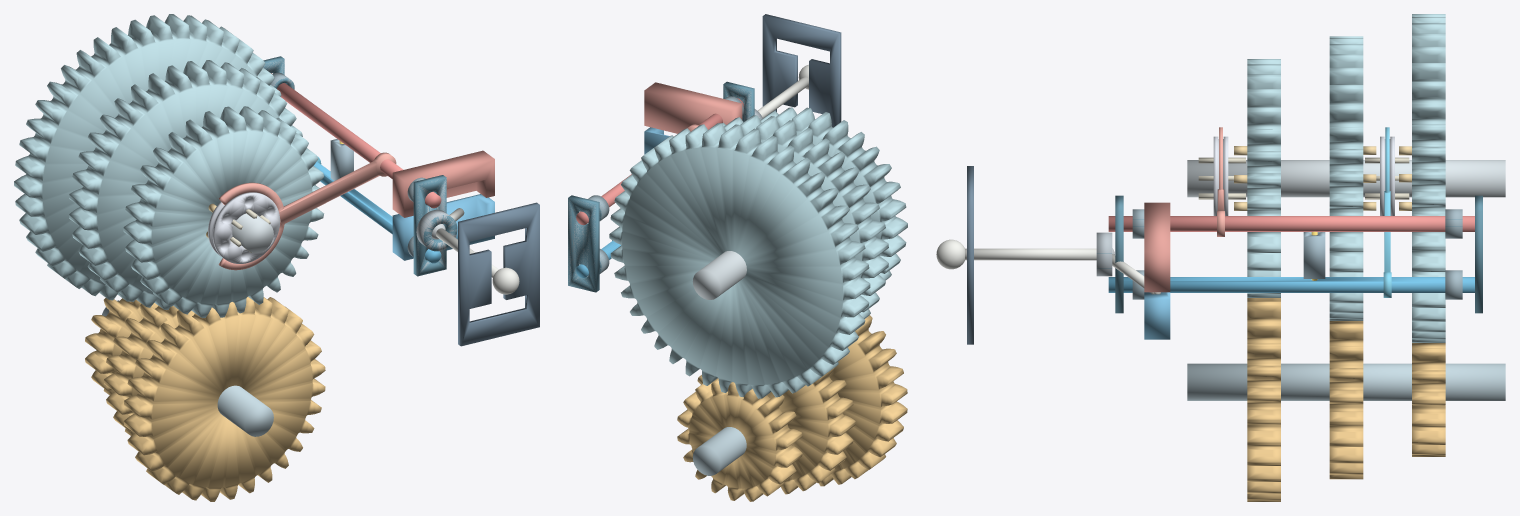
File: three-speed-stage5.glb
3 views of the same model, side by side, from view 1: azimuth 30°, elevation 25°; view 2: azimuth 150°, elevation 25°; view 3: azimuth 270°, elevation 25° (orthographic). The views are drawn at different scales.
Visible parts, largest first — view 1: GearInput3, GearOutput3, GearOutput1, GearOutput2, ShiftGate, GearInput2, NativeReceiverB, NativeShiftForkB, NativeFrame, NativeSleeveB, GearInput1, NativeShiftRailB (+7 smaller); view 2: GearOutput1, GearInput1, GearInput3, GearOutput2, GearInput2, ShiftGate, GearOutput3, NativeFrame, NativeReceiverB, NativeOutputShaft, InputShaft, SupportBottom (+3 smaller); view 3: GearOutput1, GearOutput2, InputShaft, GearOutput3, GearInput3, NativeOutputShaft, GearInput2, NativeShiftRailB, NativeShiftRailA, GearInput1, NativeShiftLever, NativeReceiverB (+9 smaller).
Boxes of the visible parts, x1,y1,x2,y2 form: GearInput3: (124, 297, 325, 501); GearOutput3: (123, 106, 324, 317); GearOutput1: (14, 14, 281, 301); GearOutput2: (69, 60, 302, 309); ShiftGate: (458, 202, 539, 346); GearInput2: (104, 303, 194, 435); NativeReceiverB: (392, 150, 494, 217); NativeShiftForkB: (218, 152, 396, 270); NativeFrame: (263, 56, 457, 276); NativeSleeveB: (208, 192, 280, 263); GearInput1: (85, 298, 157, 395); NativeShiftRailB: (271, 73, 441, 208); GearOutput1: (609, 123, 870, 398); GearInput1: (677, 378, 802, 501); GearInput3: (819, 315, 907, 486); GearOutput2: (722, 115, 888, 318); GearInput2: (697, 367, 855, 494); ShiftGate: (762, 14, 841, 127); GearOutput3: (759, 107, 907, 280); NativeFrame: (568, 81, 754, 292); NativeReceiverB: (644, 82, 742, 133); NativeOutputShaft: (692, 251, 746, 299); InputShaft: (692, 427, 746, 475); SupportBottom: (568, 198, 595, 291); GearOutput1: (1412, 14, 1445, 342); GearOutput2: (1329, 36, 1363, 320); InputShaft: (1187, 363, 1505, 400); GearOutput3: (1247, 59, 1280, 297); GearInput3: (1247, 298, 1280, 501); NativeOutputShaft: (1187, 160, 1505, 197); GearInput2: (1329, 321, 1363, 479); NativeShiftRailB: (1108, 216, 1474, 231); NativeShiftRailA: (1108, 277, 1474, 292); GearInput1: (1412, 343, 1445, 456); NativeShiftLever: (936, 239, 1160, 294); NativeReceiverB: (1144, 202, 1170, 292).
Bounding box in the file's own units: 118 × 136 × 152.
